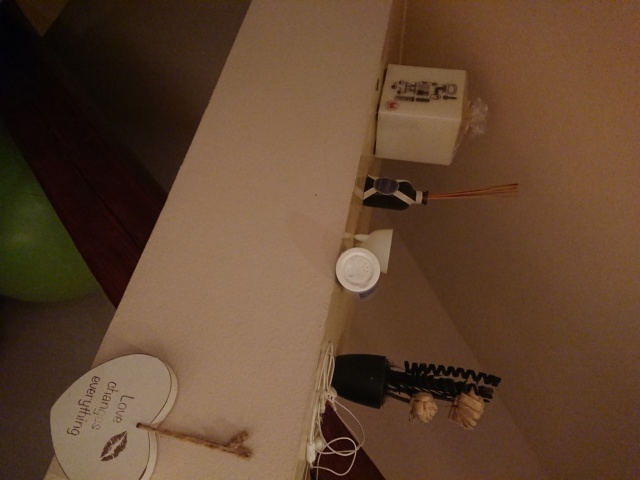Solana Pag Fine Sea Salt 250g: (333, 245, 382, 294)
